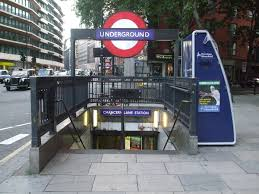London Underground: (94, 11, 153, 57)
